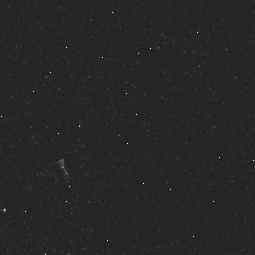debris: (47, 154, 71, 186)
